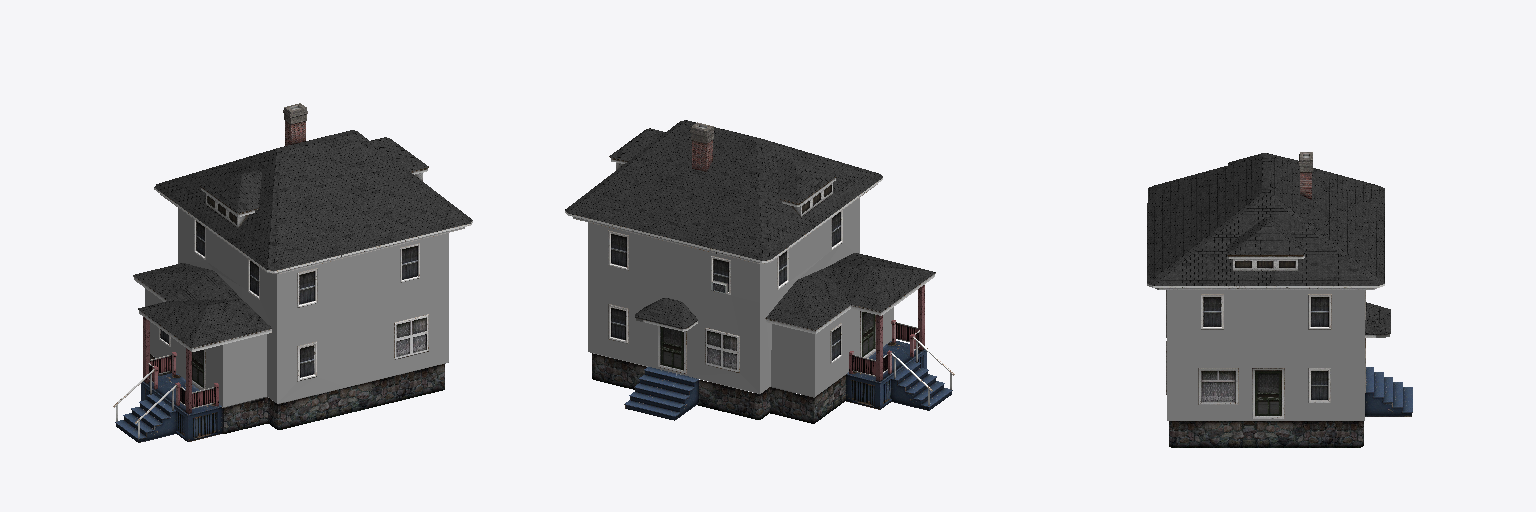
The picture shows the model from 3 angles: view 1: azimuth 30°, elevation 25°; view 2: azimuth 150°, elevation 25°; view 3: azimuth 270°, elevation 25°; orthographic projection.
Visible parts, largest first — view 1: house; view 2: house; view 3: house.
Boxes of the visible parts, box(x1,y1,x2,y2) form: house: box(113, 103, 472, 442); house: box(565, 120, 954, 423); house: box(1147, 152, 1412, 447).
Size of the model in its own units: 124 by 97.6 by 93.13.
Materials: 3 (2 with a texture image).